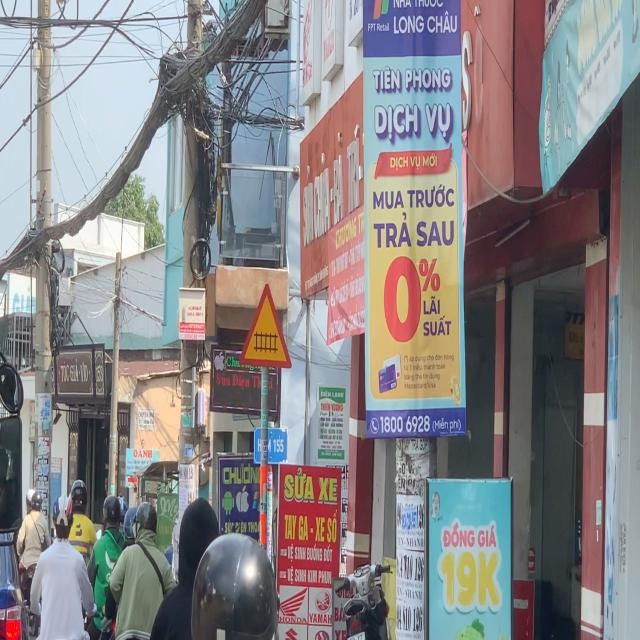Nguy hiem: (238, 283, 292, 370)
